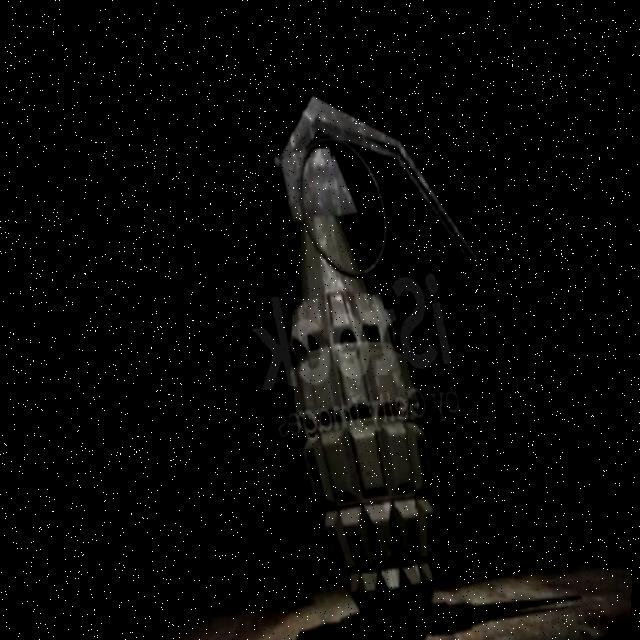grenade: (196, 39, 587, 640)
